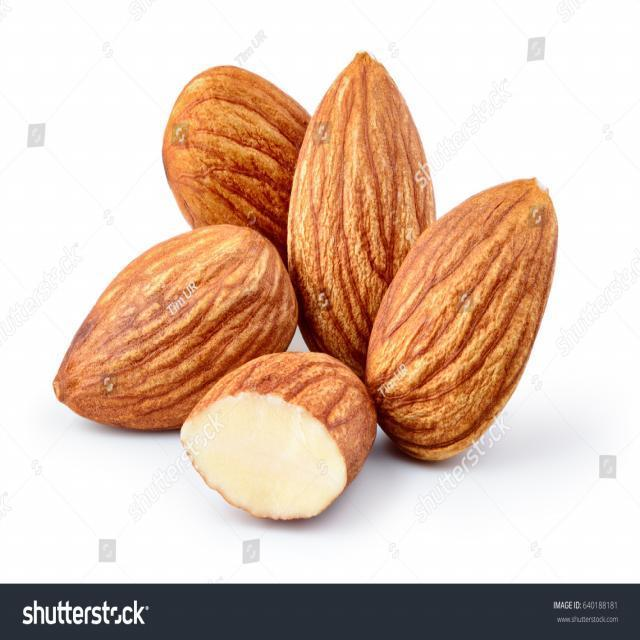almond: (363, 173, 560, 467), (52, 222, 300, 430), (288, 48, 435, 365)
